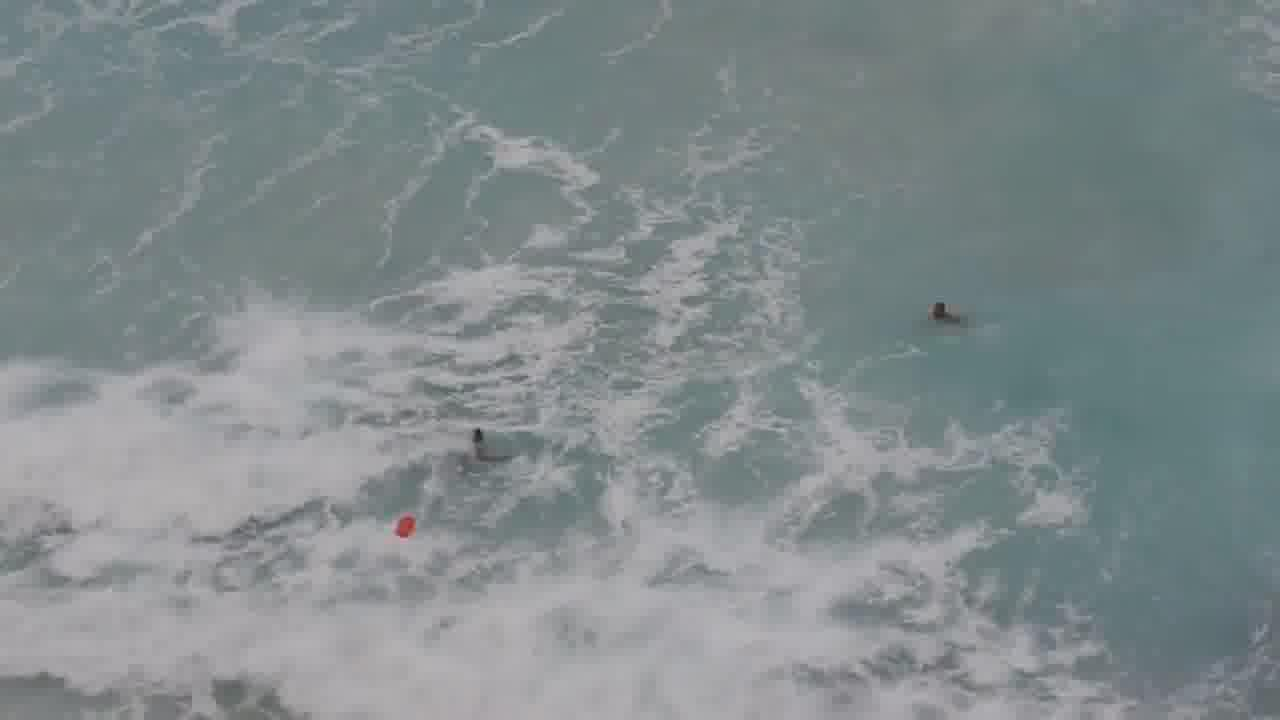human: (446, 416, 519, 470), (915, 291, 979, 335)
